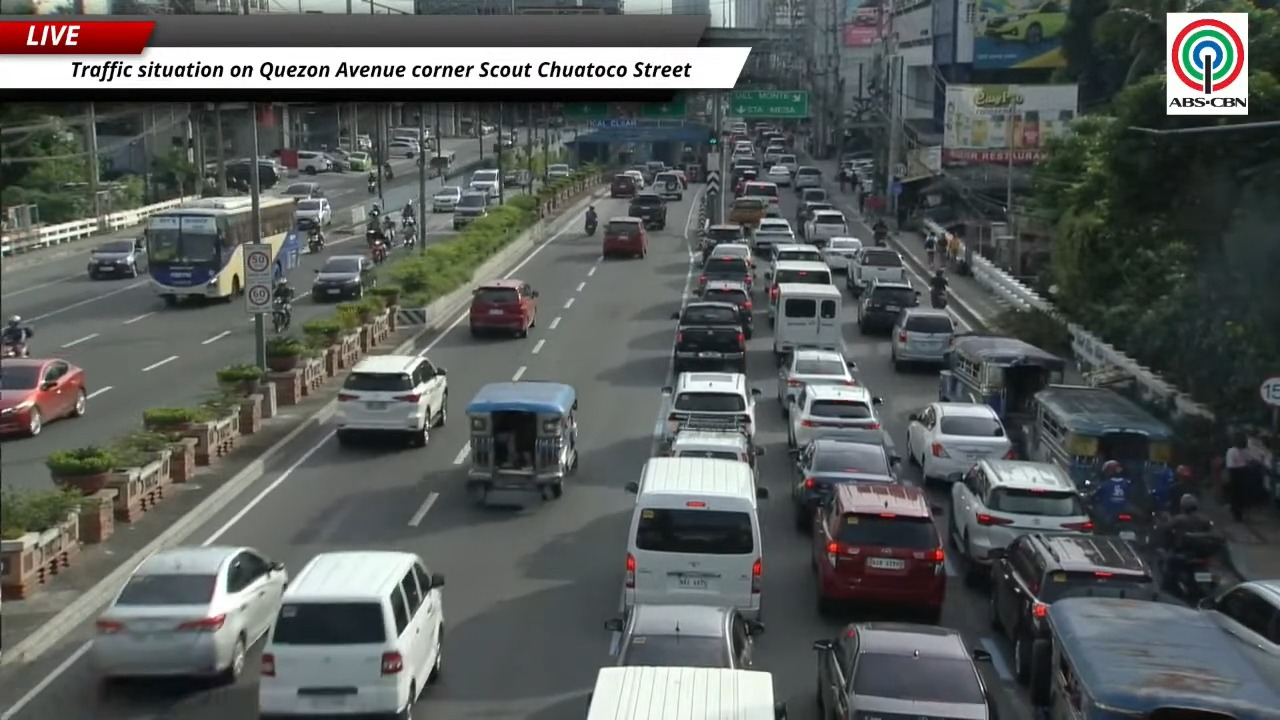bus: (145, 196, 300, 305)
car: (252, 551, 446, 719), (91, 547, 288, 681), (989, 532, 1161, 683), (812, 481, 945, 623), (947, 460, 1093, 583), (814, 623, 996, 719), (335, 355, 448, 446), (606, 603, 762, 668), (790, 438, 896, 532), (906, 402, 1013, 481), (663, 369, 760, 442), (0, 358, 87, 435), (787, 384, 891, 447), (1200, 579, 1279, 655), (672, 300, 746, 373), (777, 348, 856, 414), (666, 422, 763, 471), (469, 278, 538, 336), (891, 307, 955, 369), (982, 0, 1067, 45), (857, 280, 919, 333), (701, 280, 753, 339), (310, 255, 375, 302), (846, 247, 907, 295), (87, 237, 147, 280), (696, 250, 753, 294), (601, 216, 647, 258), (749, 217, 795, 255), (769, 243, 823, 274), (700, 224, 746, 260), (803, 211, 848, 247), (451, 190, 489, 231), (627, 190, 666, 228), (821, 237, 862, 272), (795, 200, 835, 231), (707, 243, 755, 268), (294, 198, 332, 226), (741, 180, 779, 206), (652, 170, 684, 200), (469, 169, 501, 199), (296, 151, 333, 174), (281, 181, 323, 201), (730, 167, 758, 196), (432, 186, 462, 212), (610, 173, 639, 198), (793, 166, 820, 191), (387, 139, 420, 158), (764, 164, 791, 186), (796, 187, 829, 203), (623, 169, 648, 190), (346, 151, 372, 171), (325, 150, 348, 172), (762, 144, 784, 166), (777, 153, 798, 175), (547, 163, 572, 179), (671, 168, 688, 189)
motorcycle: (1162, 533, 1224, 606), (1093, 510, 1143, 541), (272, 298, 290, 333), (382, 216, 395, 247), (371, 239, 387, 264), (402, 223, 417, 249), (3, 342, 28, 357), (308, 232, 323, 253), (930, 290, 947, 308), (873, 228, 888, 247), (584, 219, 597, 236), (383, 163, 394, 180), (402, 214, 415, 227), (369, 204, 381, 218), (367, 180, 376, 194)
